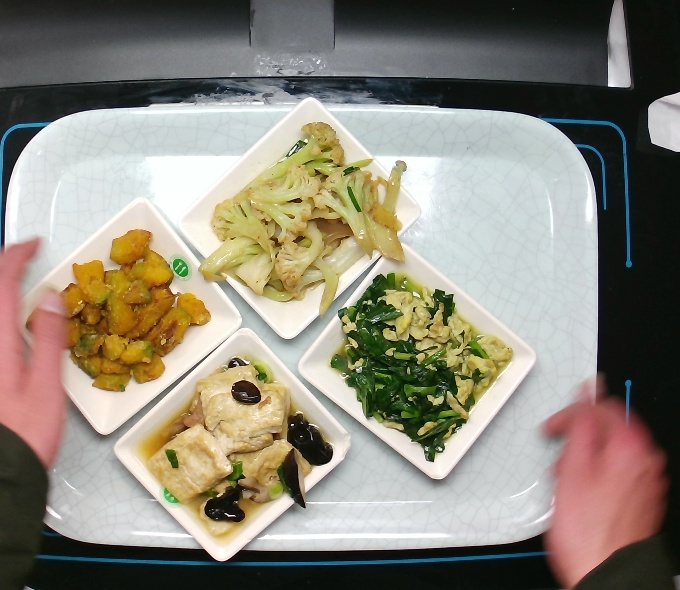wcq-DanHuangNanGua: (63, 221, 215, 399)
wcq-JiaChangDouFu: (140, 356, 336, 542)
wcq-JiuCaiJiDan: (331, 268, 516, 461)
wcq-QiuCai: (197, 115, 410, 318)
